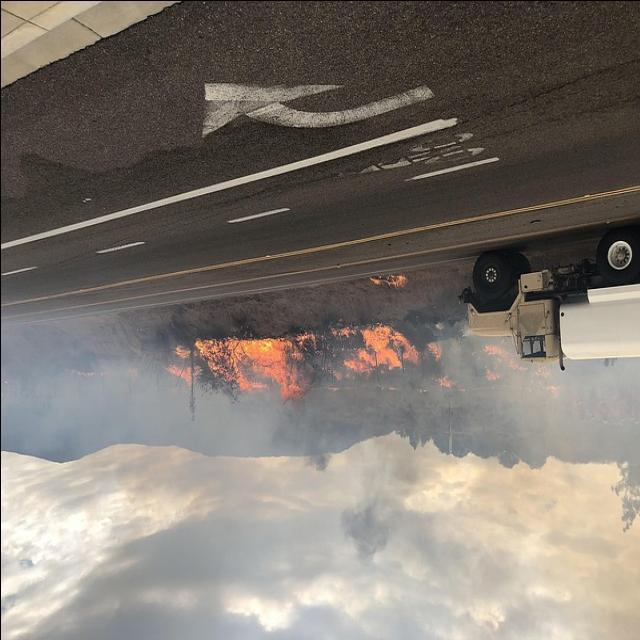Fire: (154, 302, 454, 411)
